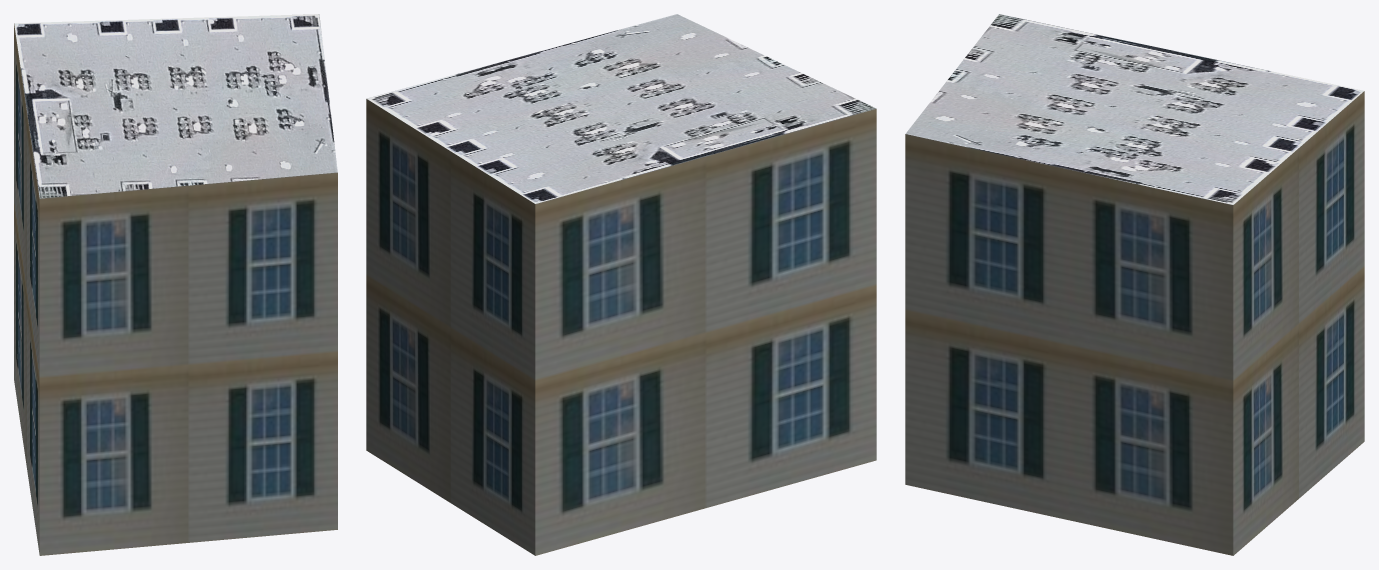
File: ResTex__2599.fbx
3 views of the same model, side by side, from view 1: azimuth 30°, elevation 25°; view 2: azimuth 150°, elevation 25°; view 3: azimuth 270°, elevation 25° (orthographic).
Visible parts, largest first — view 1: CityEngineMaterial_7_m, CityEngineMaterial_m; view 2: CityEngineMaterial_7_m, CityEngineMaterial_m; view 3: CityEngineMaterial_7_m, CityEngineMaterial_m.
Part boxes in pixels (x1,y1,x2,y2): CityEngineMaterial_7_m: [14, 23, 337, 555]; CityEngineMaterial_m: [14, 14, 337, 198]; CityEngineMaterial_7_m: [366, 99, 876, 555]; CityEngineMaterial_m: [367, 14, 875, 203]; CityEngineMaterial_7_m: [905, 91, 1364, 555]; CityEngineMaterial_m: [905, 14, 1363, 204].
Size of the model in its own units: 7.01 by 6 by 7.12.
2 materials, 2 textured.
